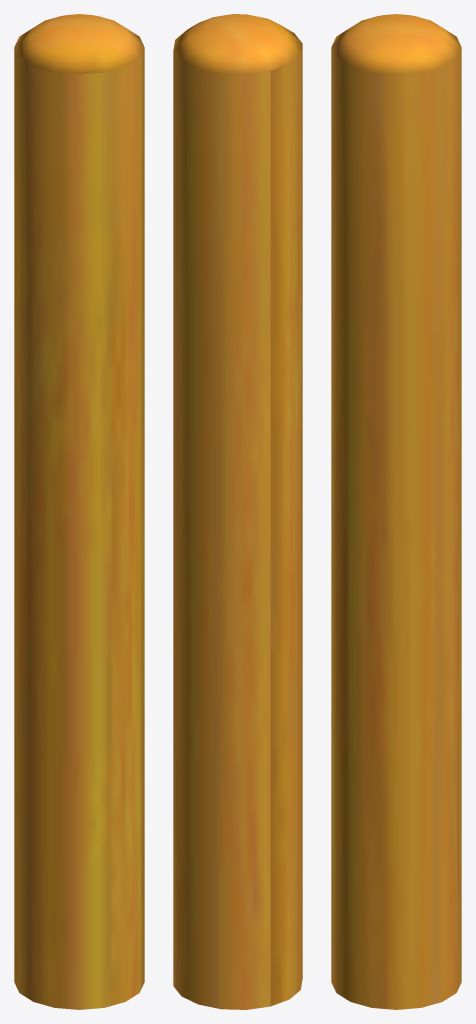
File: hellpillarNew.fbx
3 renders of one model, left to right at view 1: azimuth 90°, elevation 25°; view 2: azimuth 210°, elevation 25°; view 3: azimuth 270°, elevation 25°, orthographic.
Visible parts, largest first — view 1: hellpillarTest1; view 2: hellpillarTest1; view 3: hellpillarTest1.
Boxes of the visible parts, x1=… form: hellpillarTest1: x1=14, y1=14, x2=144, y2=1009; hellpillarTest1: x1=173, y1=14, x2=302, y2=1009; hellpillarTest1: x1=331, y1=14, x2=461, y2=1009.
Size of the model in its own units: 2.61 by 21.18 by 2.61.
